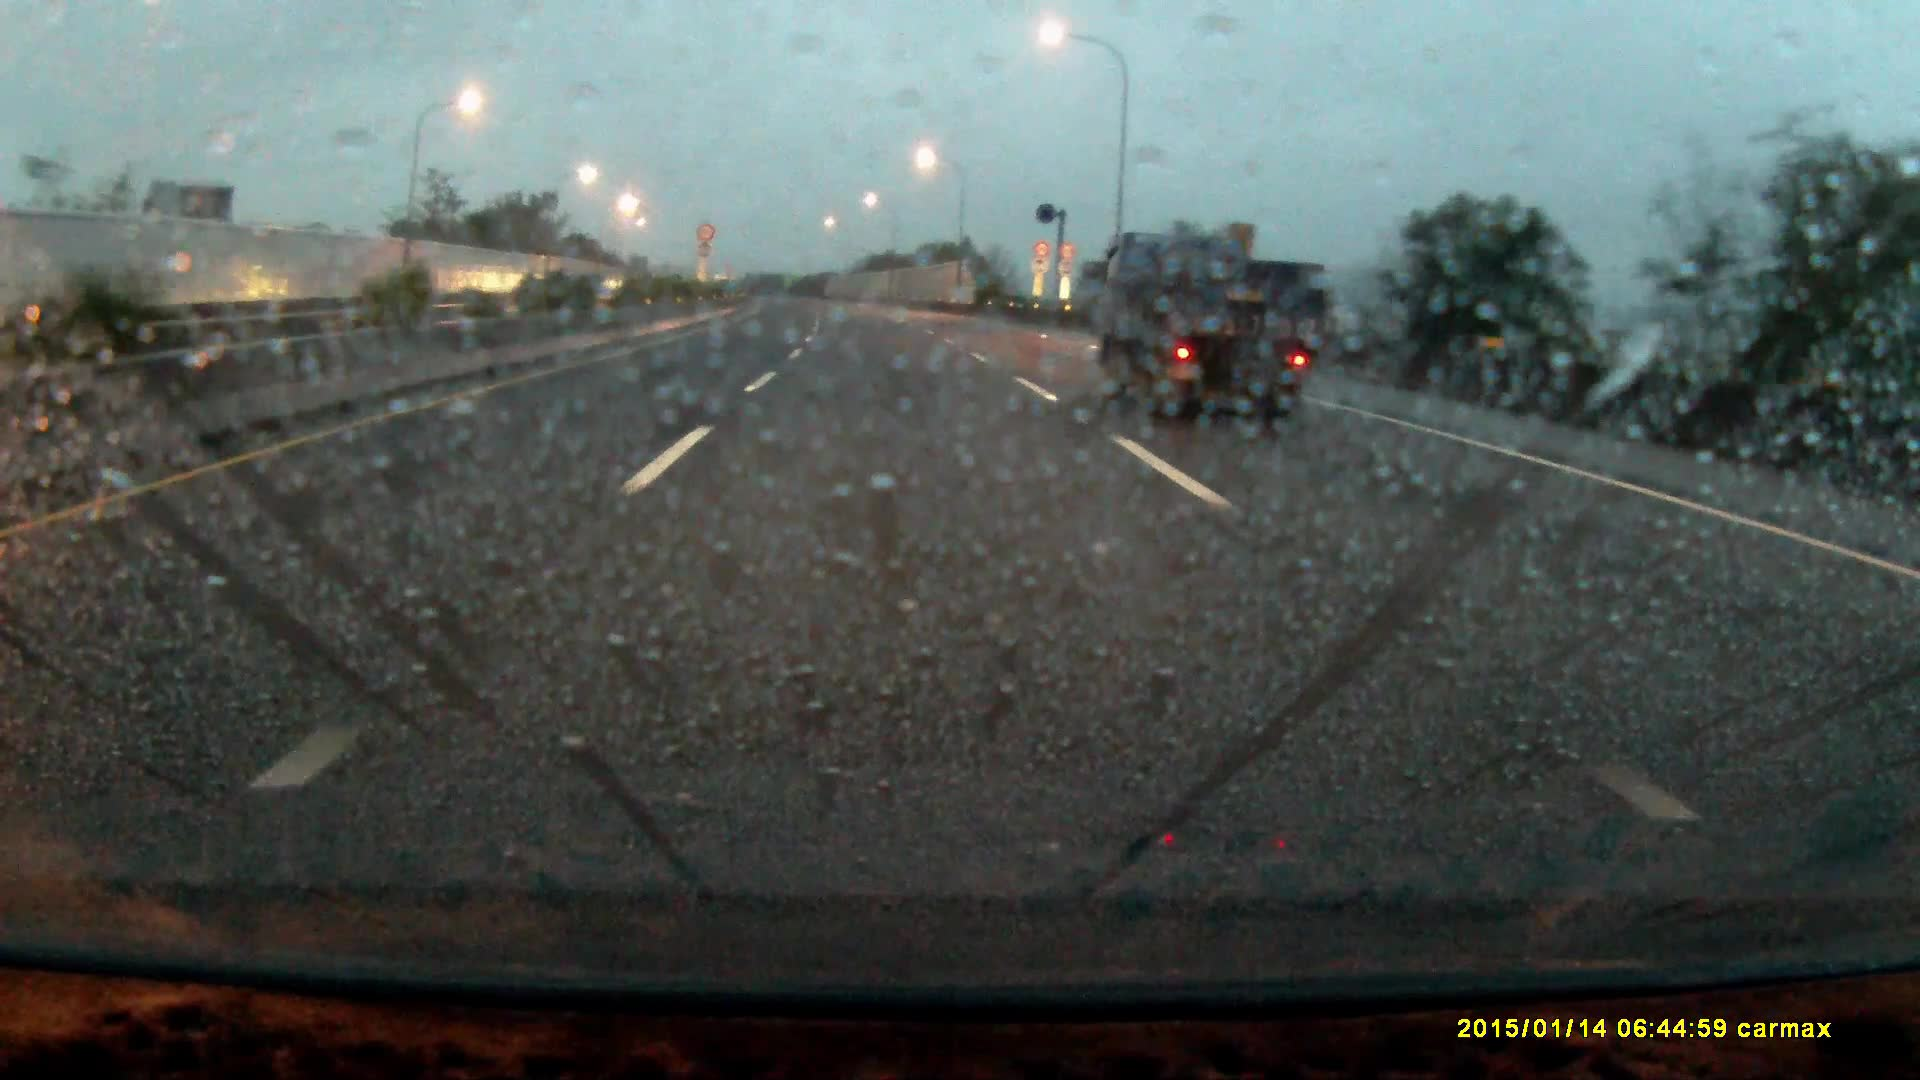vehicle: (1096, 240, 1321, 421)
